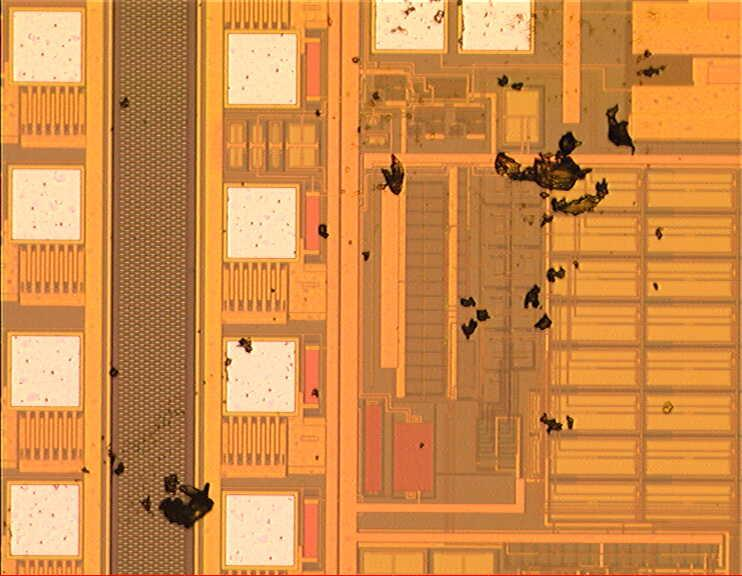PO CONTAMINATION: (77, 1, 676, 534)
